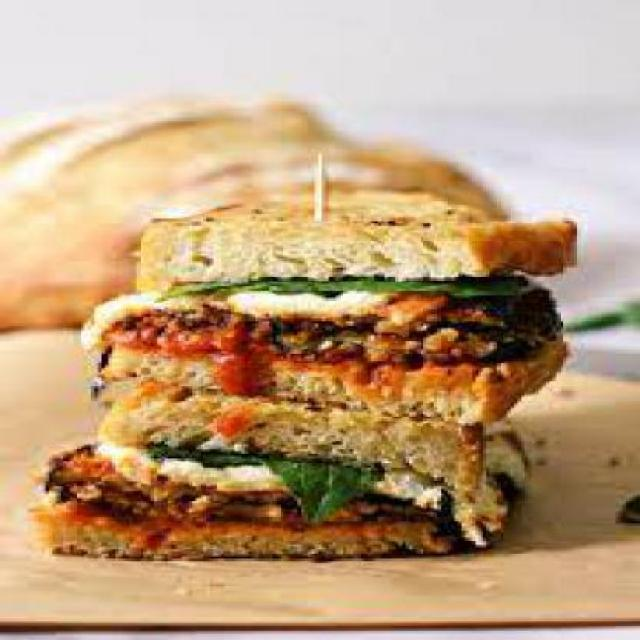eggplant: (42, 454, 486, 531), (105, 309, 542, 354)
french toast: (69, 351, 560, 463), (45, 186, 588, 277), (18, 504, 452, 568)
hummus: (88, 437, 458, 498), (81, 286, 388, 323)
